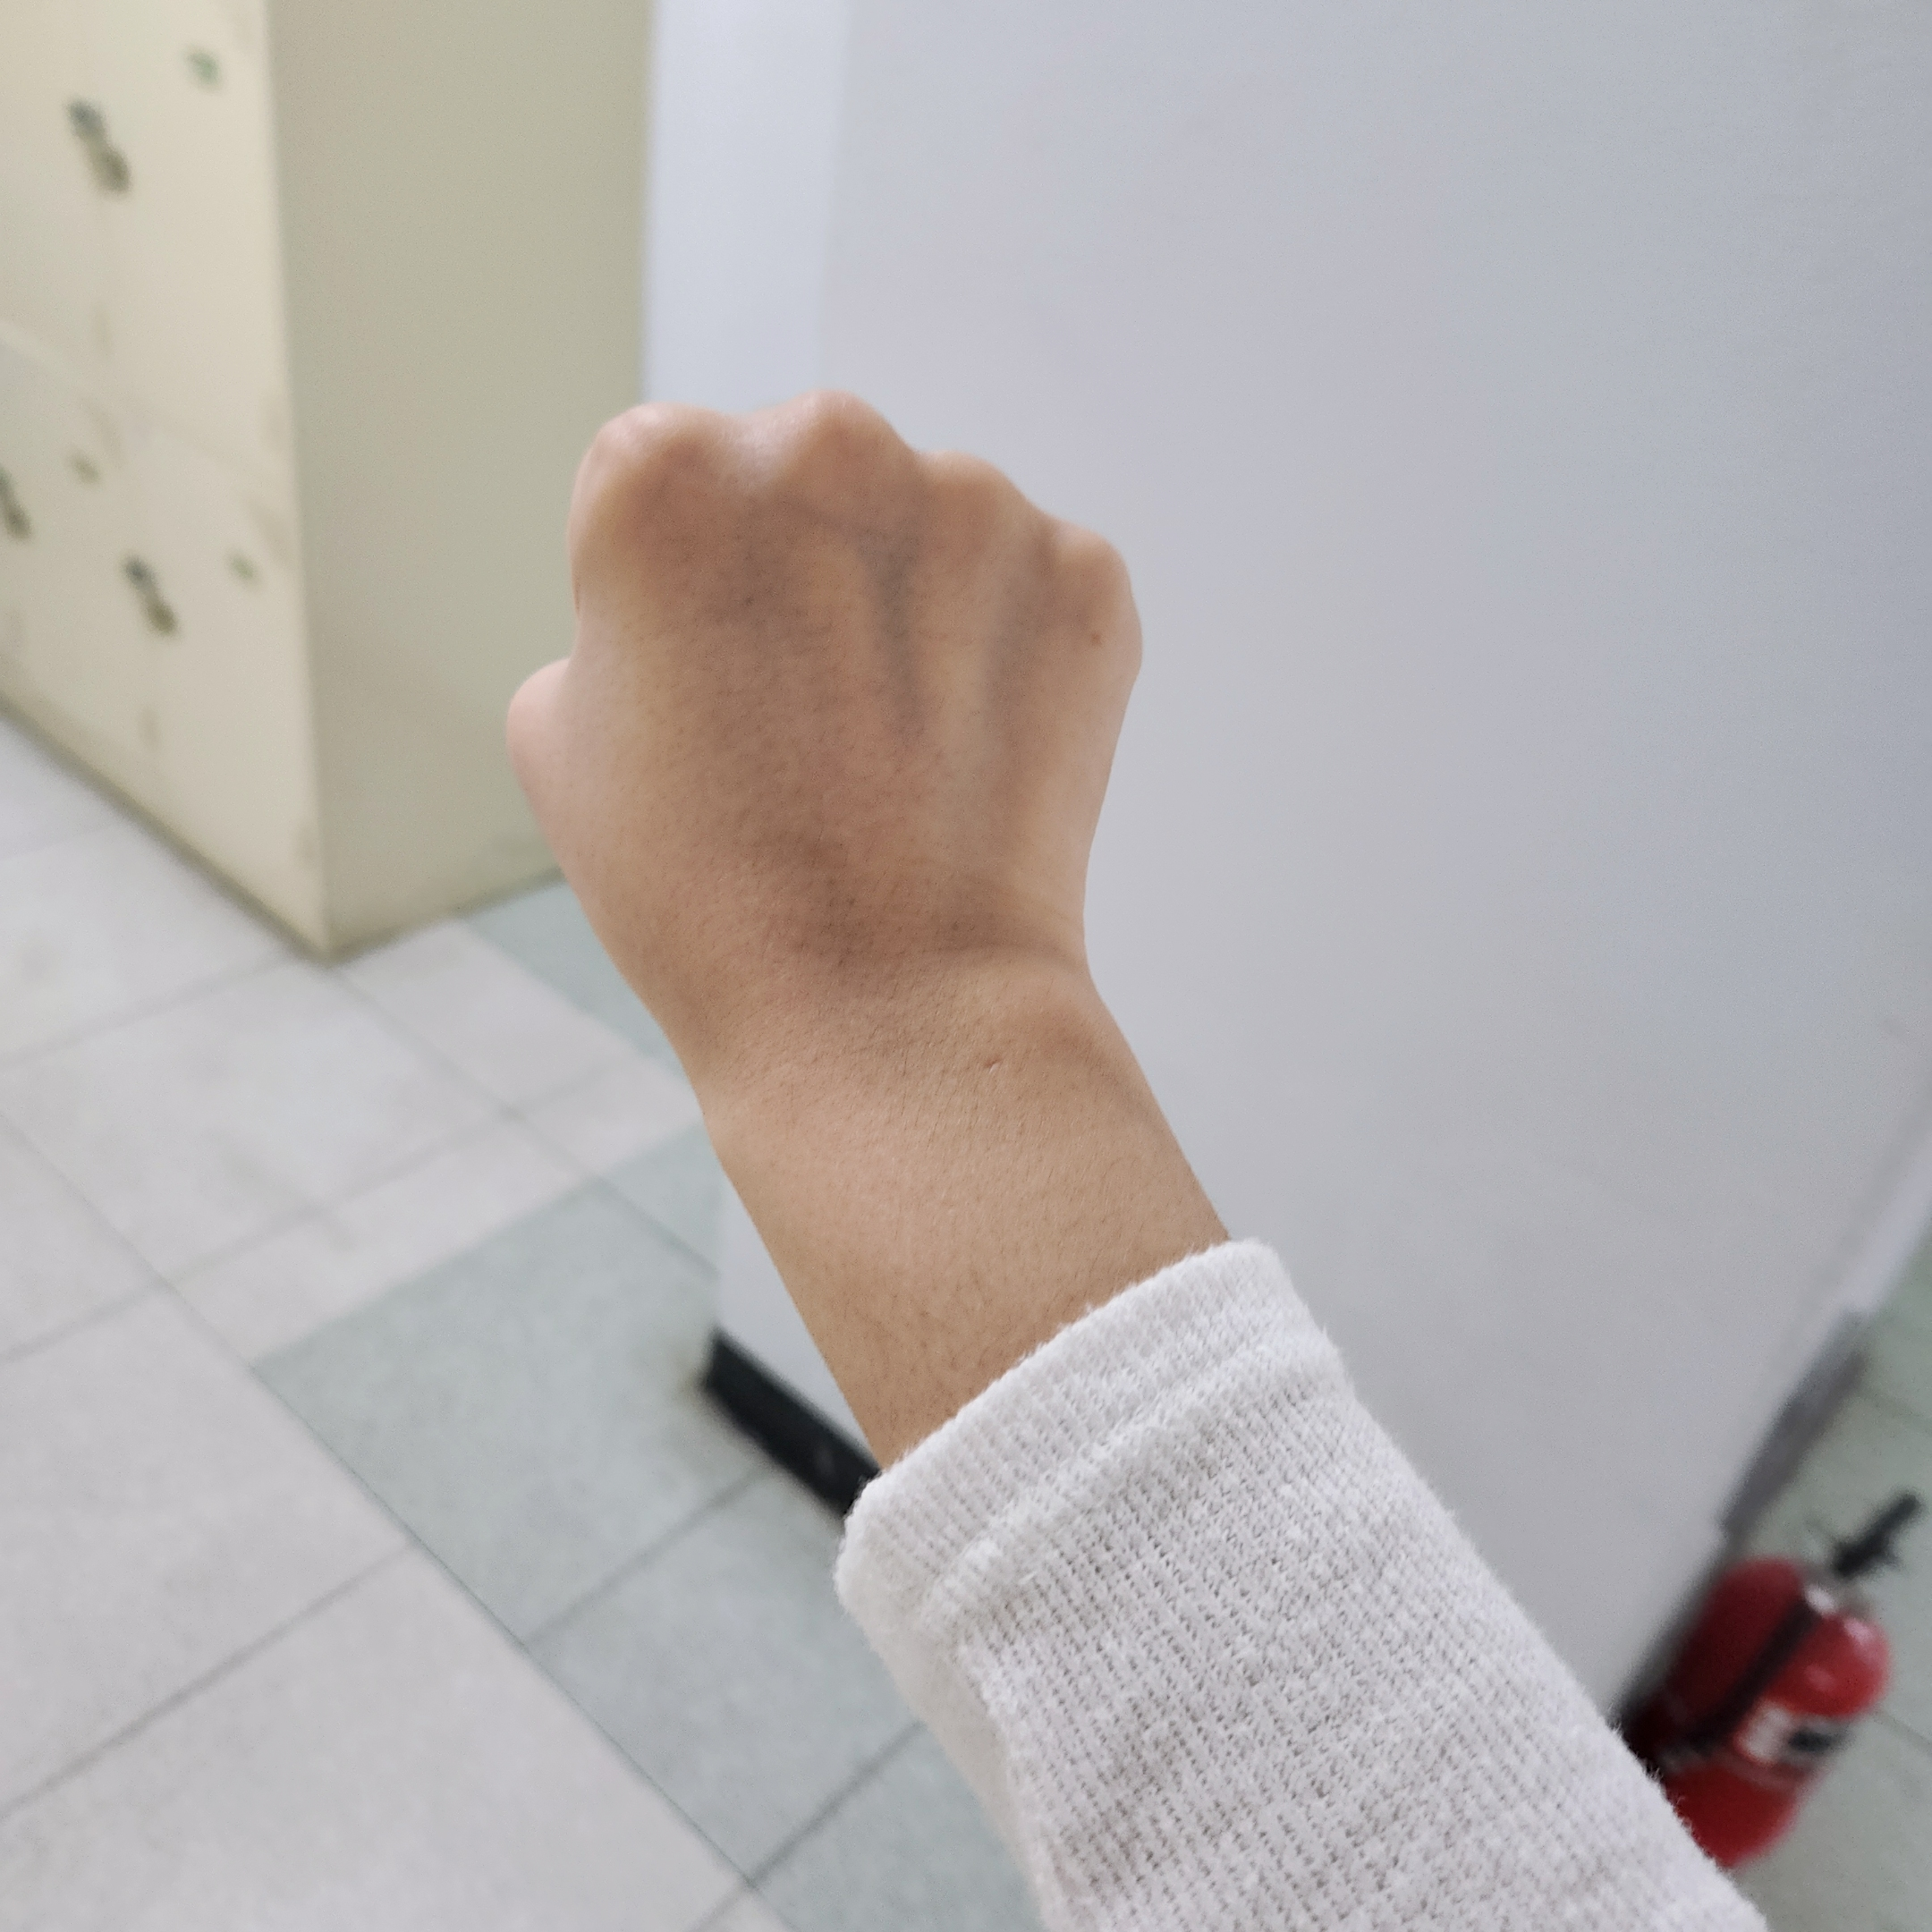smile: (497, 380, 1146, 1095)
